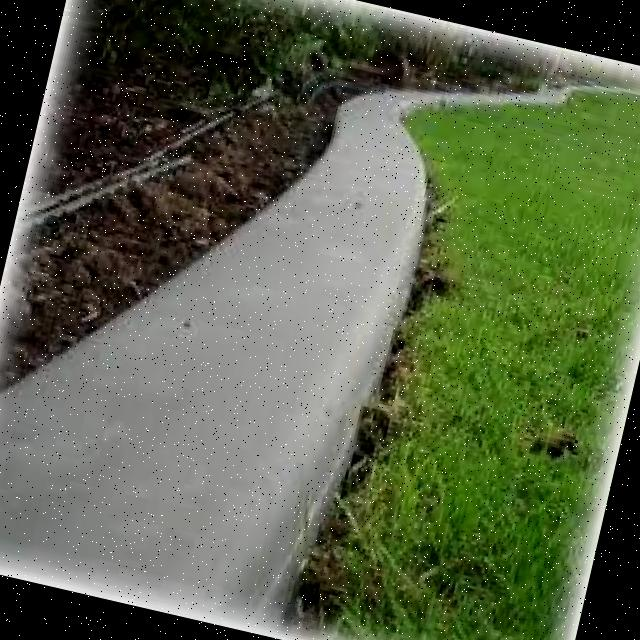curb: (54, 324, 399, 640), (252, 91, 463, 452)
